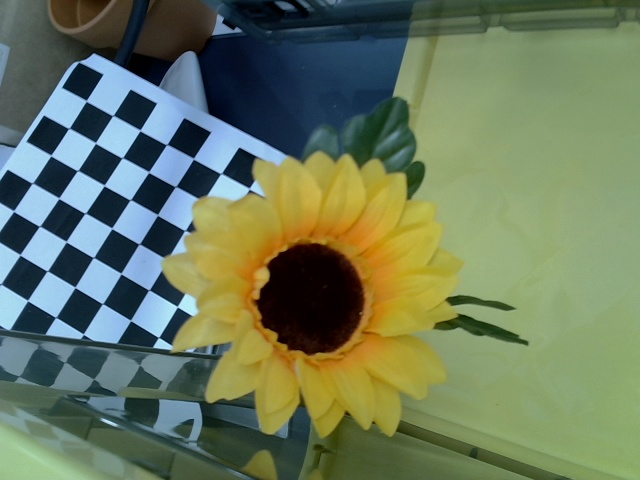해바라기: (157, 157, 462, 439)
